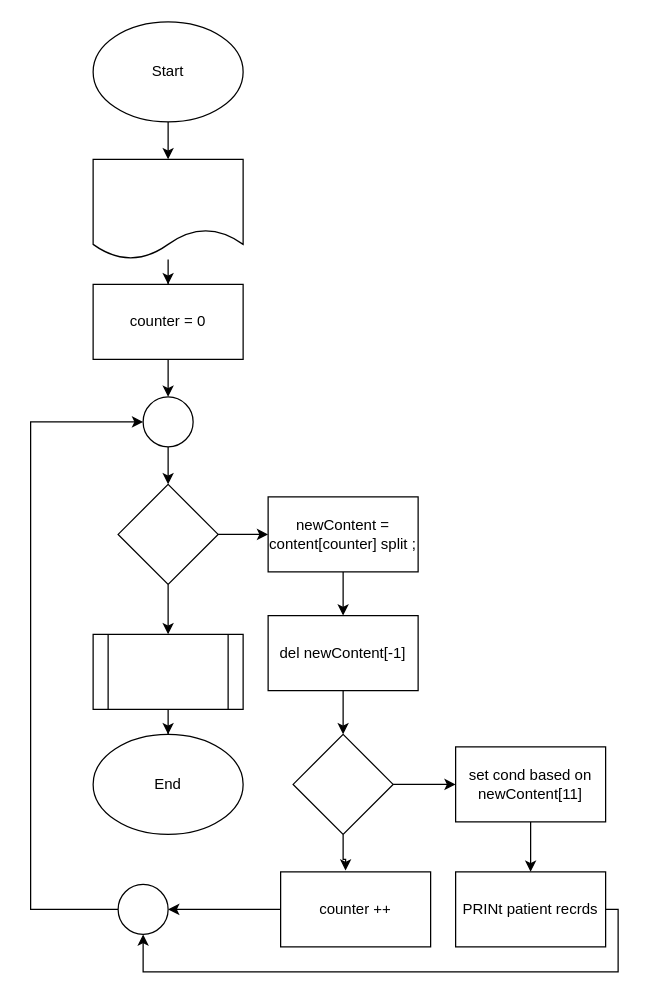
The diagram is 650 pixels wide and 1004 high, and some of its shapes have lost their labels. Here are the shapes that lost their labels. From the top down, the centre of each, then its label:
At (167,208): "open patient.txt as my_file method r".
At (167,533): "for element in content".
At (167,671): "exitMenu()".
At (342,783): "newContent[10] == D".
